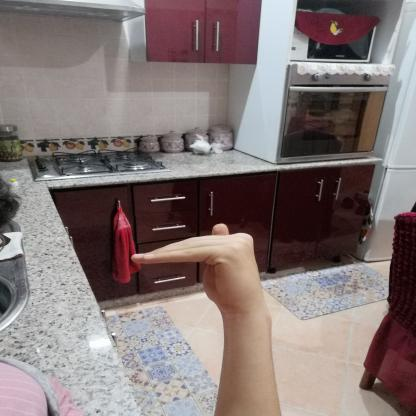KHAA: (121, 211, 282, 328)
